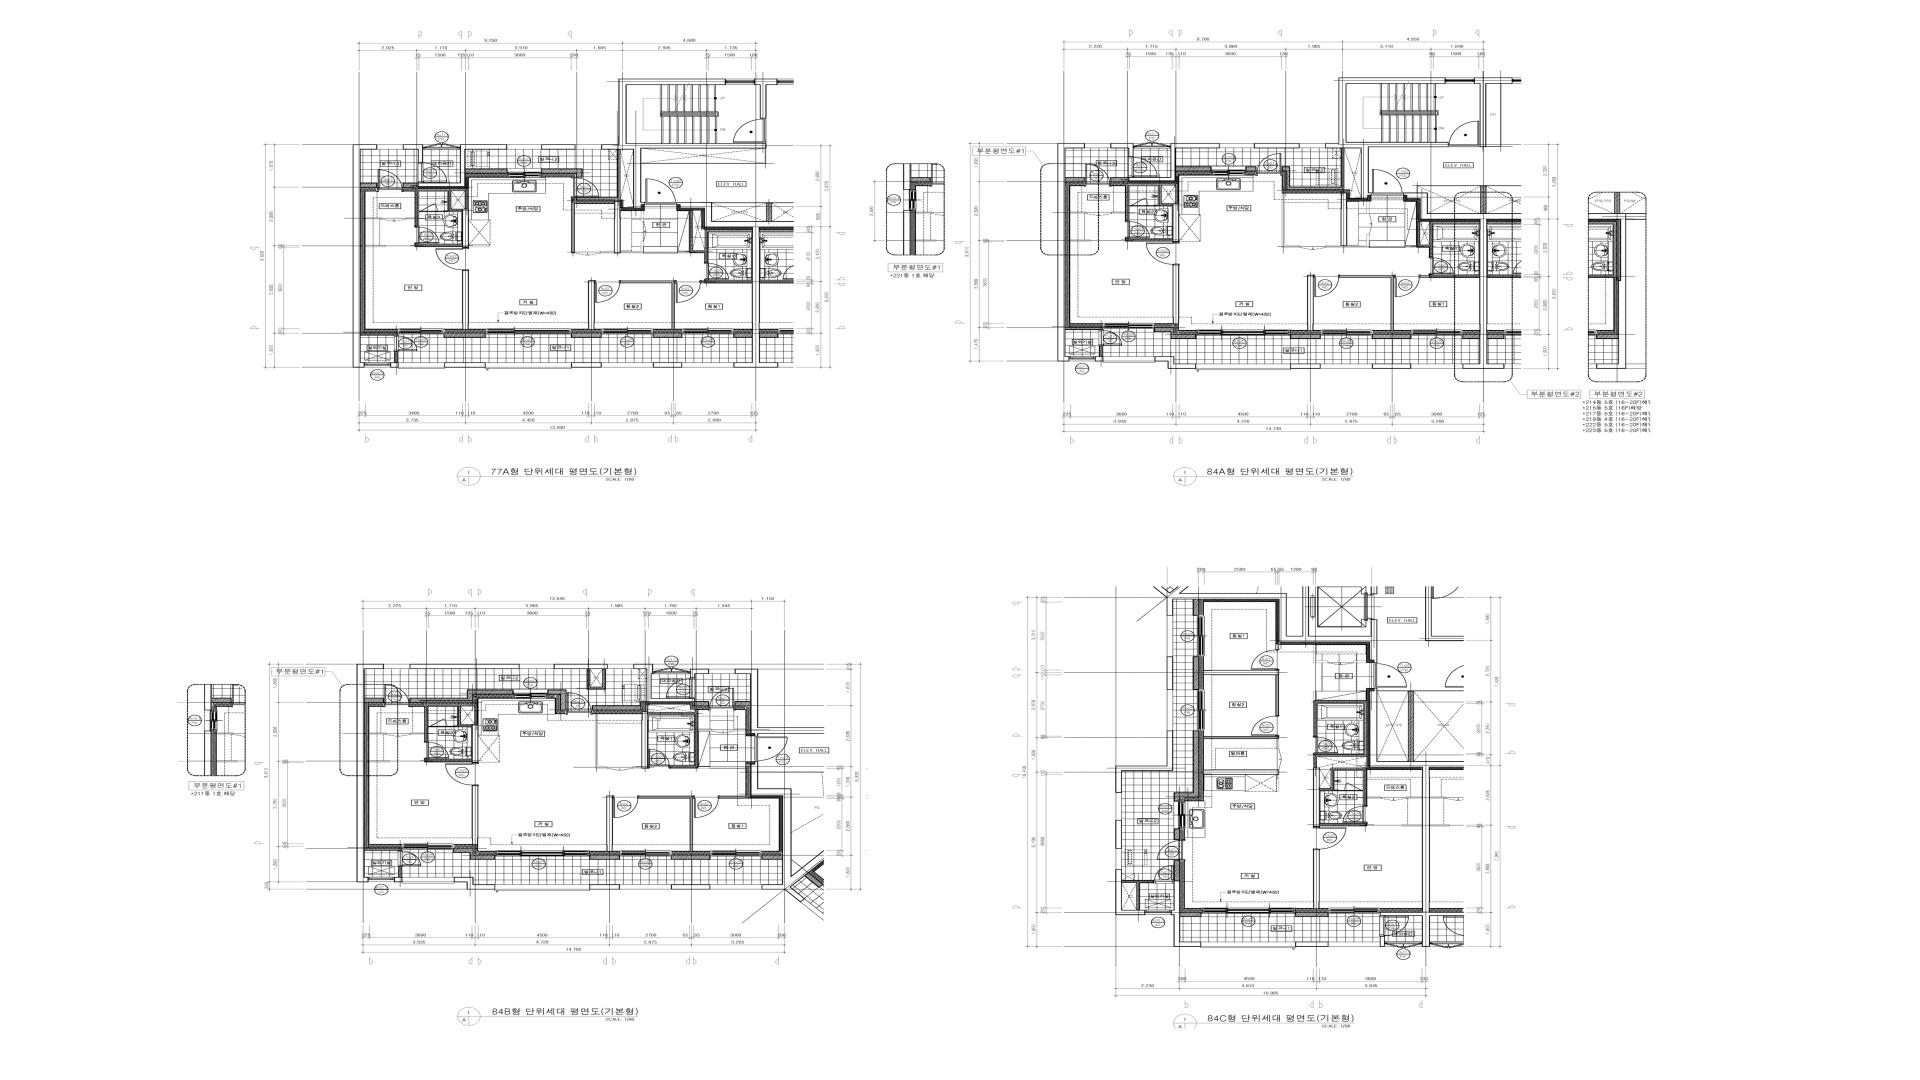door: (1371, 169, 1403, 195), (645, 178, 676, 204), (754, 736, 787, 761), (733, 119, 766, 144), (1146, 241, 1180, 265), (444, 762, 479, 786), (435, 247, 469, 270), (1449, 120, 1480, 146), (1374, 663, 1407, 687), (1313, 827, 1346, 849), (663, 678, 696, 698), (1379, 915, 1410, 936), (692, 795, 720, 818), (1394, 274, 1420, 297), (1313, 274, 1340, 297), (384, 684, 410, 707), (675, 280, 702, 302), (595, 280, 621, 302), (377, 169, 404, 191), (1251, 649, 1279, 670), (571, 177, 599, 198), (1129, 157, 1158, 177), (418, 162, 447, 182), (1257, 153, 1282, 175), (1085, 164, 1110, 186), (613, 795, 638, 818), (709, 688, 735, 711), (567, 692, 592, 715), (1251, 716, 1279, 736), (1158, 840, 1185, 860), (1125, 220, 1150, 239), (414, 225, 439, 244), (1428, 257, 1455, 274), (423, 741, 448, 758), (1342, 806, 1367, 823), (1313, 736, 1338, 753), (704, 262, 729, 280), (649, 749, 670, 769), (1098, 330, 1122, 345), (1154, 865, 1174, 884), (398, 851, 421, 866), (394, 335, 417, 351), (1134, 141, 1171, 148), (653, 667, 690, 674), (1385, 942, 1422, 948), (423, 142, 460, 149), (1345, 782, 1362, 791), (421, 203, 438, 212), (1131, 198, 1149, 206), (430, 719, 447, 727), (1381, 796, 1407, 800), (381, 218, 407, 222), (575, 252, 601, 256), (1087, 212, 1112, 216), (712, 729, 735, 733), (1278, 749, 1282, 769), (607, 767, 633, 770), (1300, 247, 1325, 249), (385, 733, 410, 736), (1328, 662, 1353, 665), (644, 222, 646, 241)
wall: (1370, 687, 1464, 947), (601, 78, 766, 208), (1403, 193, 1522, 369), (1153, 585, 1378, 663), (676, 202, 778, 368), (1325, 78, 1449, 199), (750, 761, 824, 902), (356, 663, 384, 882), (1058, 142, 1085, 361), (736, 669, 824, 736), (352, 144, 377, 368), (418, 144, 508, 186), (1313, 700, 1367, 767), (1116, 731, 1174, 793), (1203, 670, 1279, 716), (645, 704, 699, 769), (1129, 142, 1220, 181), (690, 210, 752, 262), (1420, 224, 1480, 278), (638, 795, 694, 852), (1340, 276, 1394, 331), (1282, 148, 1345, 190), (621, 281, 675, 330), (1474, 78, 1513, 146), (1325, 193, 1370, 248), (1112, 183, 1179, 220), (633, 663, 695, 702), (406, 189, 468, 225), (1416, 222, 1480, 257), (576, 149, 620, 200), (1425, 585, 1464, 641), (425, 703, 479, 741), (1171, 881, 1201, 947), (641, 148, 766, 164), (1174, 731, 1200, 802), (1320, 767, 1367, 806), (1125, 206, 1174, 241), (1203, 769, 1279, 791), (425, 727, 472, 762), (1320, 791, 1367, 827), (409, 690, 513, 703), (1116, 869, 1145, 915), (600, 200, 621, 253), (1203, 736, 1279, 749), (1486, 83, 1502, 146), (1282, 194, 1300, 248), (754, 78, 778, 119), (1122, 880, 1154, 910), (633, 712, 649, 769), (1416, 185, 1522, 193), (595, 713, 607, 769), (410, 663, 520, 669), (1155, 356, 1196, 369), (1154, 327, 1197, 339), (454, 848, 496, 860), (454, 877, 495, 889), (462, 270, 469, 330), (587, 669, 607, 690), (547, 690, 567, 711), (472, 786, 479, 845), (1313, 849, 1320, 909), (1313, 767, 1320, 827), (1172, 265, 1179, 324), (402, 144, 423, 162), (1307, 274, 1313, 331), (607, 795, 613, 852), (1408, 691, 1414, 761), (1110, 142, 1134, 157), (588, 280, 595, 330), (542, 169, 583, 177), (462, 208, 469, 247), (554, 663, 608, 669), (1313, 645, 1328, 663), (621, 241, 644, 253), (592, 705, 641, 711), (472, 724, 479, 762), (1172, 203, 1179, 241), (1254, 142, 1299, 148), (443, 332, 485, 338), (465, 169, 508, 174), (571, 198, 575, 253), (1167, 657, 1174, 690), (1193, 657, 1200, 690), (444, 363, 485, 368), (1371, 334, 1412, 339), (671, 855, 711, 860), (671, 884, 709, 889), (1373, 364, 1411, 369), (702, 280, 752, 284), (1176, 166, 1212, 171), (690, 669, 709, 678), (1116, 820, 1122, 848), (1295, 911, 1329, 916), (1295, 942, 1328, 947), (542, 144, 575, 149), (1290, 334, 1321, 339), (589, 855, 620, 860), (571, 332, 601, 338), (653, 332, 683, 338), (1291, 364, 1320, 369), (572, 363, 601, 368), (653, 363, 682, 368), (1481, 186, 1486, 214), (1174, 860, 1180, 881), (414, 244, 463, 247), (589, 885, 620, 889), (1378, 690, 1464, 691), (1193, 599, 1200, 616), (762, 855, 782, 860), (364, 698, 384, 703), (1065, 177, 1085, 182), (364, 848, 402, 851), (360, 332, 398, 335), (733, 332, 752, 338), (1065, 327, 1102, 330), (1110, 177, 1129, 182), (360, 182, 377, 187), (1462, 334, 1480, 339), (735, 700, 750, 705), (1180, 913, 1201, 916), (402, 182, 418, 187), (1174, 828, 1180, 840), (720, 795, 746, 798), (695, 702, 709, 705), (1379, 936, 1385, 947), (1246, 166, 1257, 171), (1098, 345, 1104, 356), (369, 760, 389, 762), (1402, 824, 1422, 827), (1071, 239, 1091, 241), (394, 351, 398, 363), (1096, 356, 1104, 361), (369, 732, 385, 735), (398, 866, 402, 877), (394, 877, 402, 882), (1071, 211, 1087, 214), (390, 363, 398, 368), (410, 732, 425, 735), (699, 728, 712, 731), (1353, 661, 1366, 663), (1367, 202, 1370, 214), (735, 728, 745, 731), (641, 211, 644, 222), (365, 245, 385, 247), (1275, 644, 1279, 649), (365, 218, 381, 219), (1407, 796, 1422, 798), (1367, 796, 1381, 798), (418, 211, 421, 212)
window: (1201, 942, 1296, 948), (1196, 330, 1290, 336), (1201, 907, 1295, 914), (1196, 364, 1291, 369), (495, 885, 589, 890), (496, 851, 589, 856), (485, 363, 572, 368), (485, 328, 571, 334), (402, 877, 455, 884), (1104, 356, 1155, 363), (1329, 907, 1381, 914), (1197, 690, 1205, 731), (1197, 616, 1205, 657), (1212, 166, 1246, 175), (513, 690, 547, 699), (508, 169, 542, 178), (1174, 802, 1185, 828), (1328, 942, 1381, 947), (1167, 615, 1174, 657), (1411, 330, 1462, 335), (1102, 323, 1154, 328), (711, 851, 762, 856), (1321, 330, 1373, 335), (620, 851, 671, 856), (402, 844, 454, 849), (682, 328, 733, 334), (601, 328, 653, 334), (1167, 690, 1174, 731), (398, 363, 444, 368), (398, 328, 443, 334), (1320, 364, 1373, 368), (709, 885, 762, 889), (1411, 364, 1462, 368), (620, 885, 671, 889), (682, 363, 733, 367), (601, 363, 653, 367), (1116, 793, 1122, 820), (520, 663, 554, 669), (508, 144, 542, 149), (1445, 78, 1474, 83), (725, 79, 754, 84), (368, 877, 394, 882), (709, 669, 736, 674), (608, 663, 634, 669), (384, 663, 410, 669), (1145, 910, 1171, 915), (1116, 848, 1122, 869), (575, 144, 601, 149), (1220, 144, 1254, 148), (1069, 356, 1095, 361), (377, 144, 402, 149), (1299, 144, 1325, 148), (364, 363, 390, 367), (1085, 144, 1110, 148)
